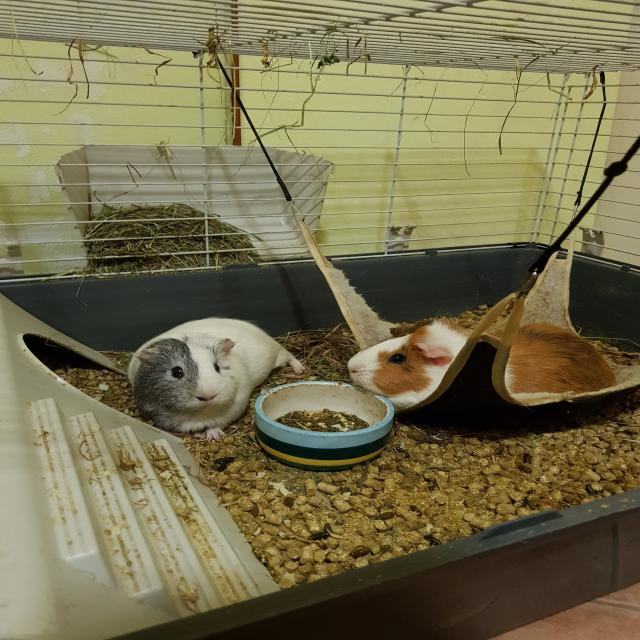guinea pig: (344, 316, 618, 409), (123, 315, 307, 446)
